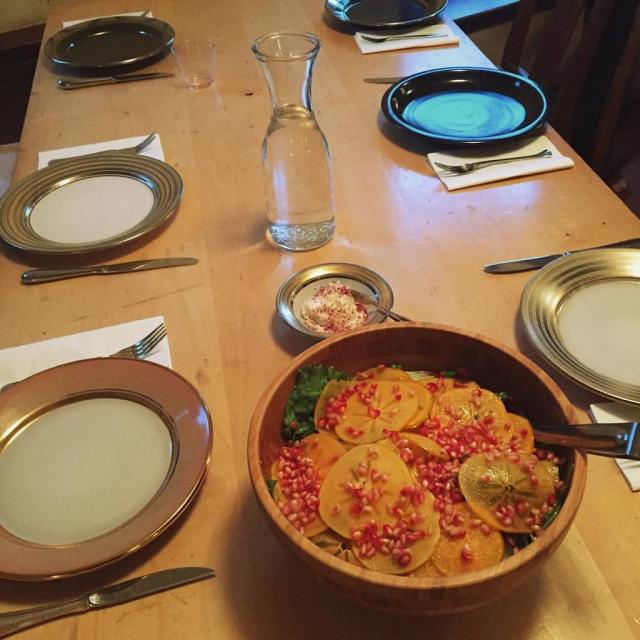non-organic waste: (258, 316, 640, 630), (0, 325, 216, 622), (348, 38, 630, 184), (0, 125, 174, 333), (495, 236, 640, 483), (17, 14, 182, 82)
